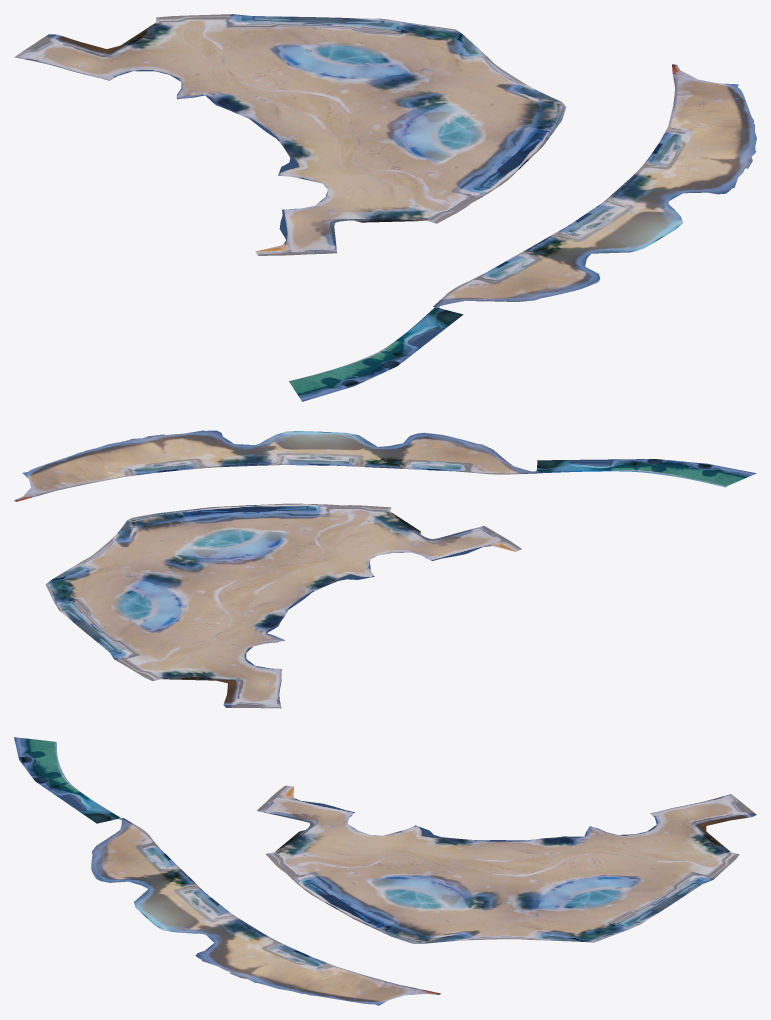
File: pref_sm_beach_tech_hunt_bk_winter_Terrains_Part_01_lv1.fbx
The picture shows the model from 3 angles, top to bottom: view 1: azimuth 30°, elevation 25°; view 2: azimuth 150°, elevation 25°; view 3: azimuth 270°, elevation 25°; orthographic projection. The views are drawn at different scales.
Visible parts, largest first — view 1: sm_beach_tech_hunt_bk_winter_Terrains_Part_01a_lv1, sm_beach_tech_hunt_bk_winter_Terrains_Part_01b_lv1, sm_beach_tech_hunt_bk_winter_Terrains_Part_01c_lv1; view 2: sm_beach_tech_hunt_bk_winter_Terrains_Part_01a_lv1, sm_beach_tech_hunt_bk_winter_Terrains_Part_01b_lv1, sm_beach_tech_hunt_bk_winter_Terrains_Part_01c_lv1; view 3: sm_beach_tech_hunt_bk_winter_Terrains_Part_01a_lv1, sm_beach_tech_hunt_bk_winter_Terrains_Part_01b_lv1, sm_beach_tech_hunt_bk_winter_Terrains_Part_01c_lv1.
Boxes of the visible parts, bbox=[...] form: sm_beach_tech_hunt_bk_winter_Terrains_Part_01a_lv1: bbox=[14, 14, 566, 255]; sm_beach_tech_hunt_bk_winter_Terrains_Part_01b_lv1: bbox=[433, 64, 756, 307]; sm_beach_tech_hunt_bk_winter_Terrains_Part_01c_lv1: bbox=[289, 307, 463, 401]; sm_beach_tech_hunt_bk_winter_Terrains_Part_01a_lv1: bbox=[45, 503, 521, 708]; sm_beach_tech_hunt_bk_winter_Terrains_Part_01b_lv1: bbox=[14, 430, 536, 501]; sm_beach_tech_hunt_bk_winter_Terrains_Part_01c_lv1: bbox=[536, 459, 756, 487]; sm_beach_tech_hunt_bk_winter_Terrains_Part_01a_lv1: bbox=[257, 785, 756, 943]; sm_beach_tech_hunt_bk_winter_Terrains_Part_01b_lv1: bbox=[91, 818, 440, 1005]; sm_beach_tech_hunt_bk_winter_Terrains_Part_01c_lv1: bbox=[14, 737, 120, 823].
Size of the model in its own units: 64.14 by 0.093 by 75.01.
Materials: 1 (1 with a texture image).
